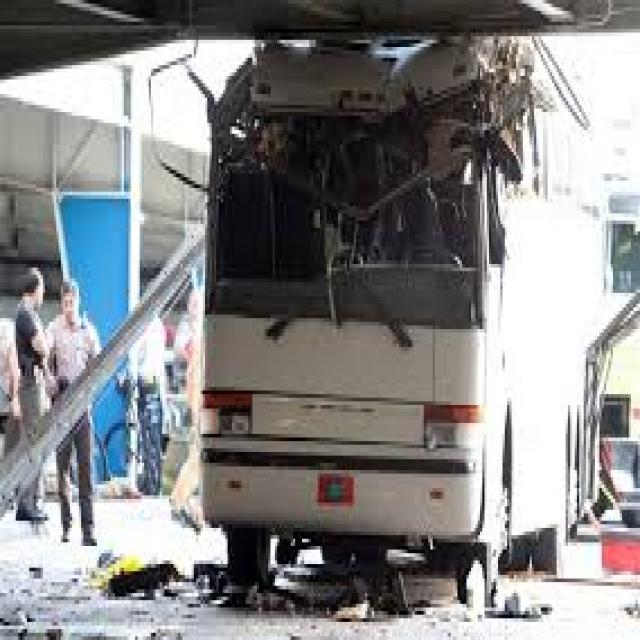accident: (48, 30, 566, 592)
